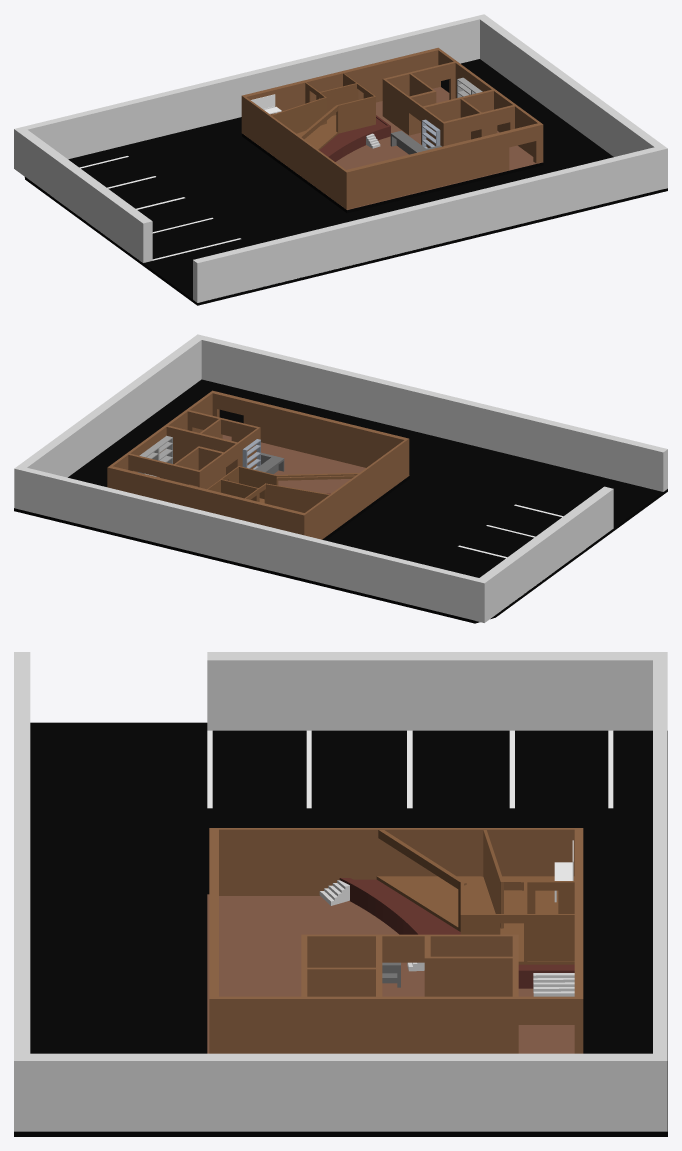
File: New Music Bar.fbx
3 views of the same model, one above another, from view 1: azimuth 30°, elevation 25°; view 2: azimuth 150°, elevation 25°; view 3: azimuth 270°, elevation 25° (orthographic). The views are drawn at different scales.
Visible parts, largest first — view 1: Ext Walls, Ground, Structure, Backstage, Stage, Bar Table; view 2: Ext Walls, Ground, Structure, Backstage, Cabinet, Bar Shelf, Bar Table; view 3: Ground, Ext Walls, Structure, Backstage, Stage, Backstage Steps.
Part boxes in pixels (bbox=[...]): Ext Walls: bbox=[14, 14, 667, 302]; Ground: bbox=[24, 59, 667, 305]; Structure: bbox=[241, 47, 543, 209]; Backstage: bbox=[271, 73, 375, 150]; Stage: bbox=[319, 115, 390, 161]; Bar Table: bbox=[390, 130, 441, 154]; Ext Walls: bbox=[14, 334, 667, 622]; Ground: bbox=[14, 379, 667, 623]; Structure: bbox=[107, 390, 409, 539]; Backstage: bbox=[207, 466, 358, 512]; Cabinet: bbox=[138, 435, 172, 476]; Bar Shelf: bbox=[242, 439, 260, 469]; Bar Table: bbox=[255, 452, 284, 474]; Ground: bbox=[14, 722, 667, 1136]; Ext Walls: bbox=[14, 652, 667, 1131]; Structure: bbox=[209, 828, 583, 1053]; Backstage: bbox=[376, 830, 574, 964]; Stage: bbox=[339, 878, 574, 988]; Backstage Steps: bbox=[533, 973, 574, 996].
Bounding box in the file's own units: 3057 × 269 × 2066.
